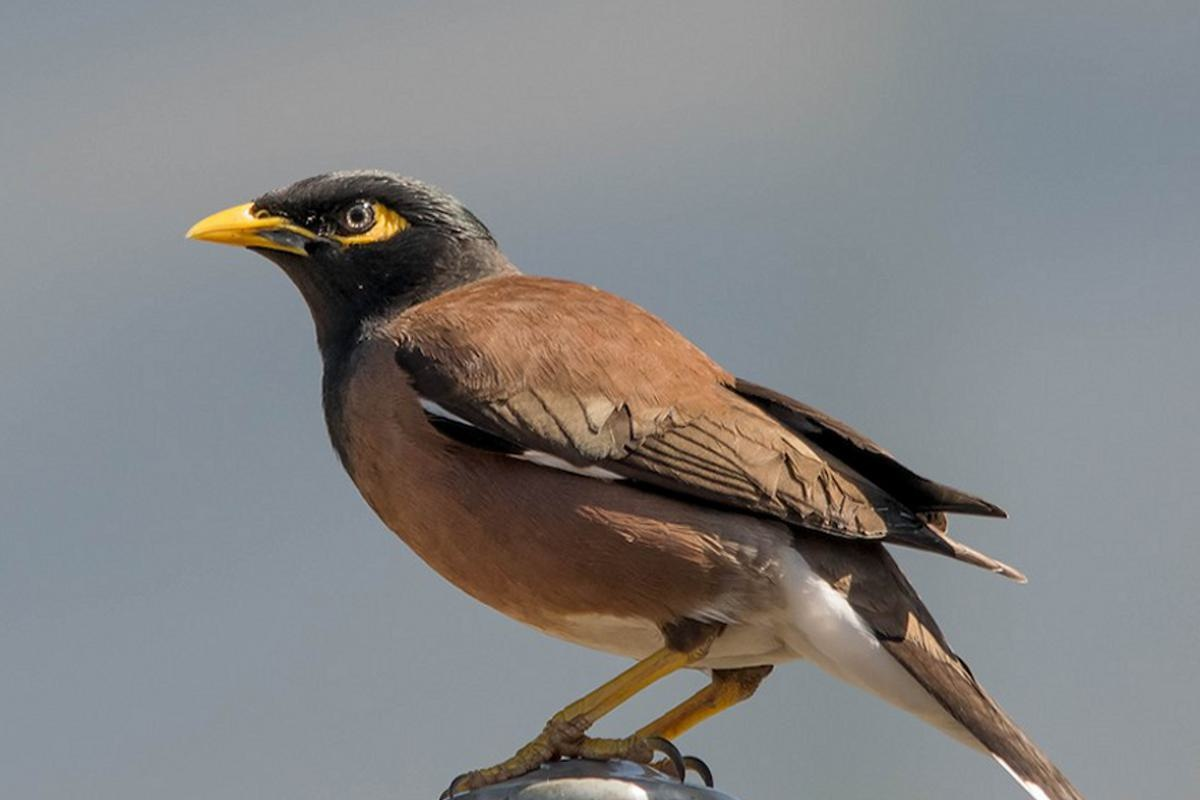myna: (195, 147, 1006, 780)
